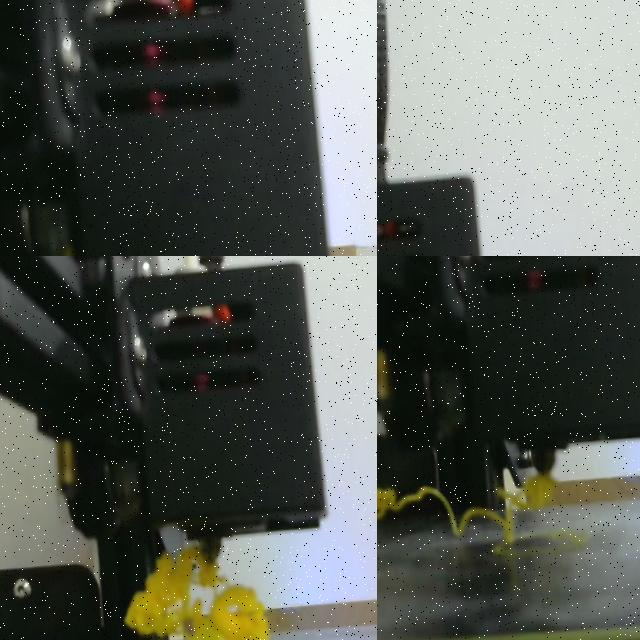spaghetti: (125, 545, 269, 640), (377, 485, 515, 544), (496, 470, 557, 509)
